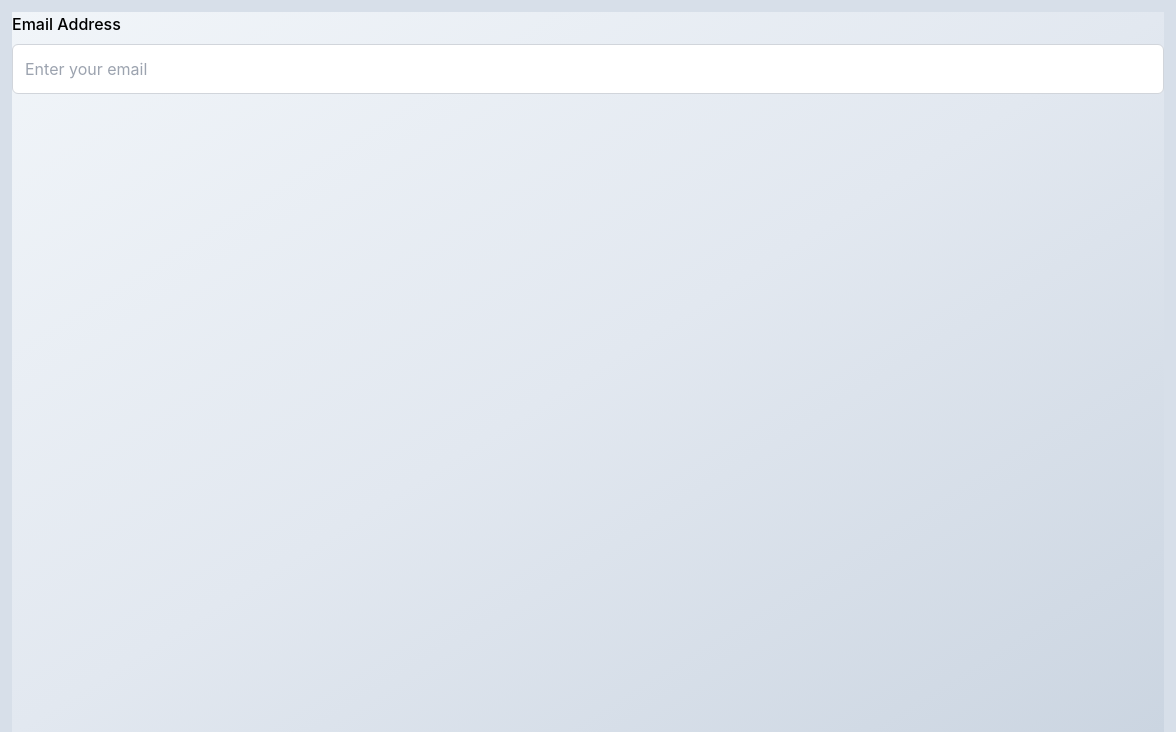
Test: EmailInput Component › returns to default border when input becomes empty
The image size is (1176, 732).
In the field with placeholder "Enter your email": (588, 69) top-left (12, 44), bottom-right (1164, 94), type "invalid-email"
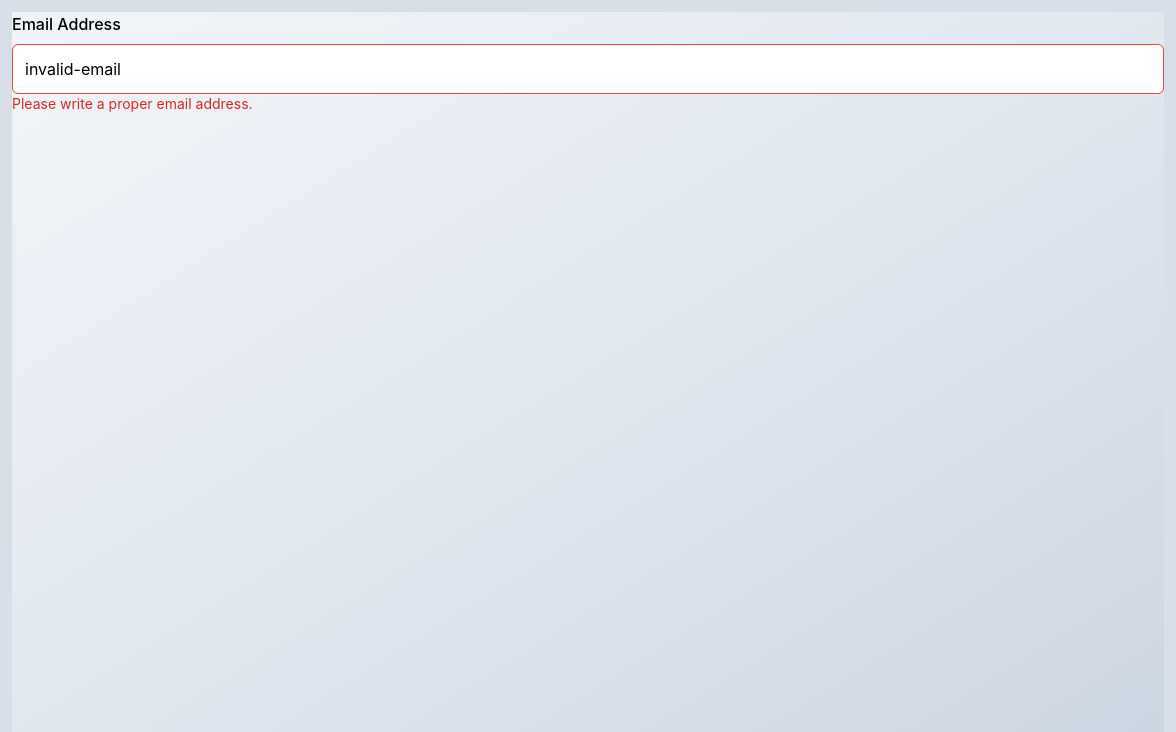
Clear the field with placeholder "Enter your email": (588, 69) top-left (12, 44), bottom-right (1164, 94)
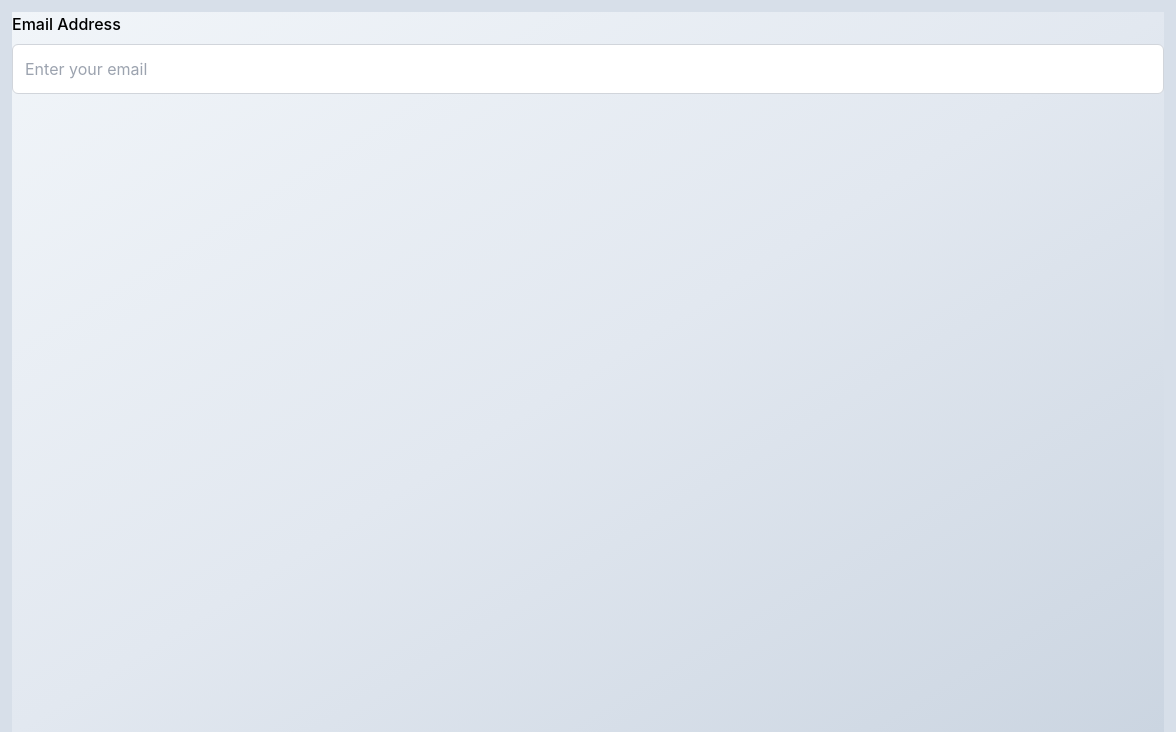
Result: the text "Please write a proper email address." is gone
